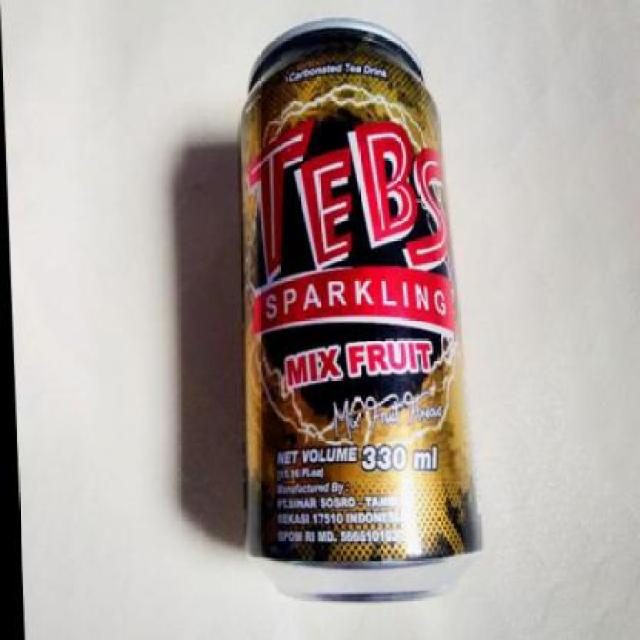Metal: (230, 16, 490, 605)
